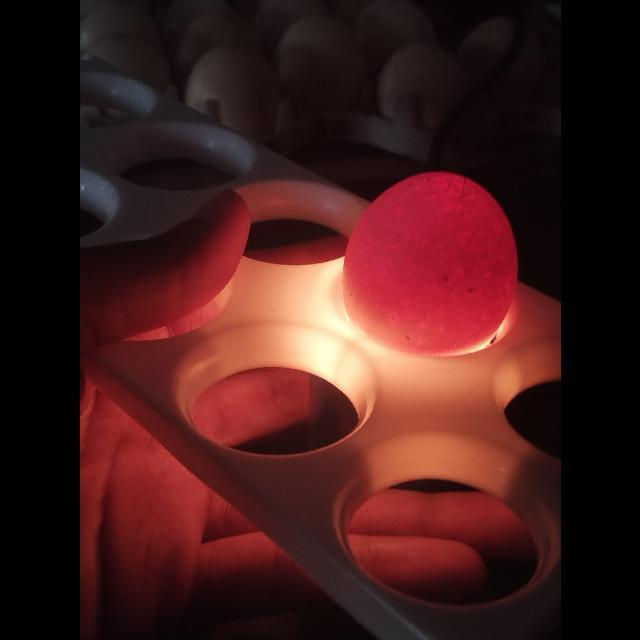Infertile: (340, 168, 522, 358)
